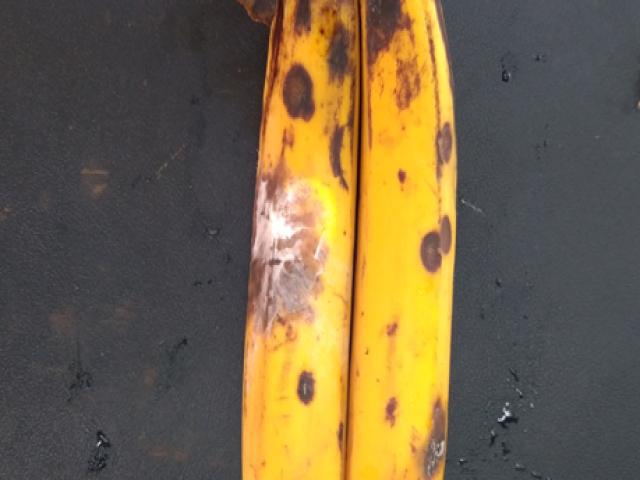ripe: (358, 0, 489, 479)
rotten: (223, 8, 359, 479)
